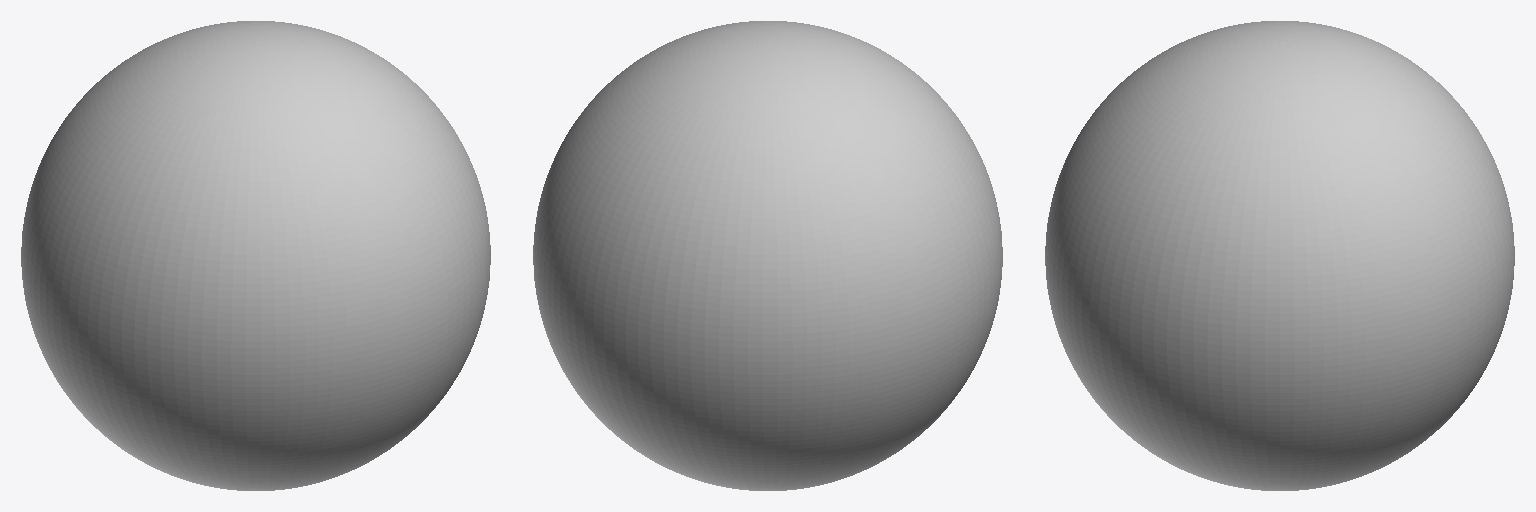
File: neptune.obj
3 views of the same model, side by side, from view 1: azimuth 30°, elevation 25°; view 2: azimuth 150°, elevation 25°; view 3: azimuth 270°, elevation 25° (orthographic).
Visible parts, largest first — view 1: Neptun_Sphere.008; view 2: Neptun_Sphere.008; view 3: Neptun_Sphere.008.
Boxes of the visible parts, <box> form: Neptun_Sphere.008: <box>21,21,490,490</box>; Neptun_Sphere.008: <box>533,21,1002,490</box>; Neptun_Sphere.008: <box>1045,21,1514,490</box>.
Bounding box in the file's own units: 1.99 × 2 × 1.99.